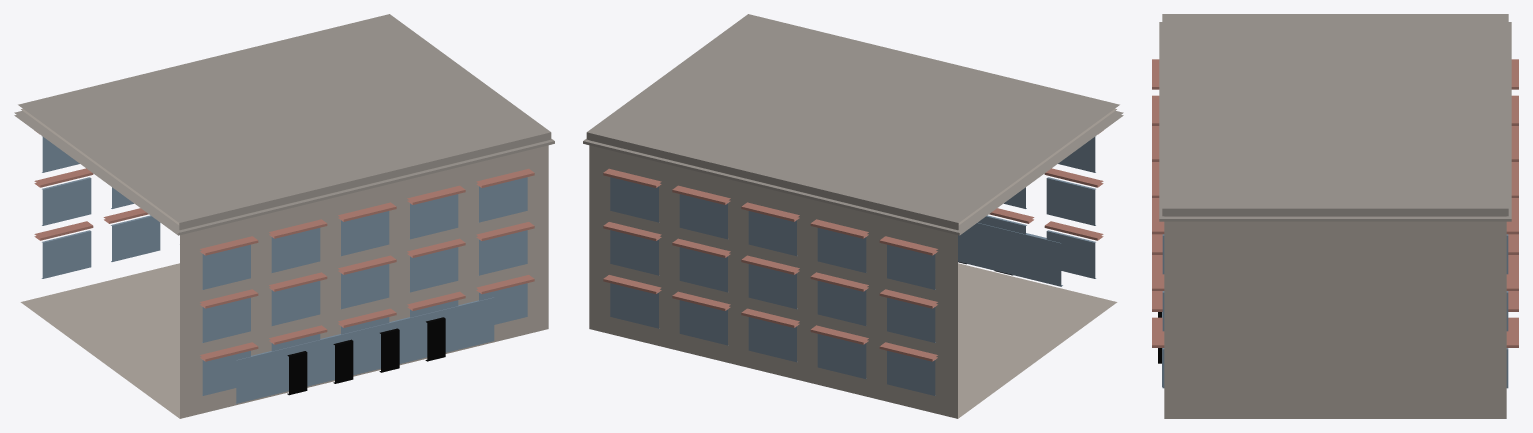
The model's file is department_store.glb.
3 renders of one model, left to right at view 1: azimuth 30°, elevation 25°; view 2: azimuth 150°, elevation 25°; view 3: azimuth 270°, elevation 25°, orthographic. The views are drawn at different scales.
Visible parts, largest first — view 1: department_store; view 2: department_store; view 3: department_store.
Boxes of the visible parts, box(x1,y1,x2,y2) form: department_store: box(14, 14, 554, 418); department_store: box(583, 14, 1123, 418); department_store: box(1152, 14, 1518, 418).
Bounding box in the file's own units: 32.7 × 16.35 × 25.74.
